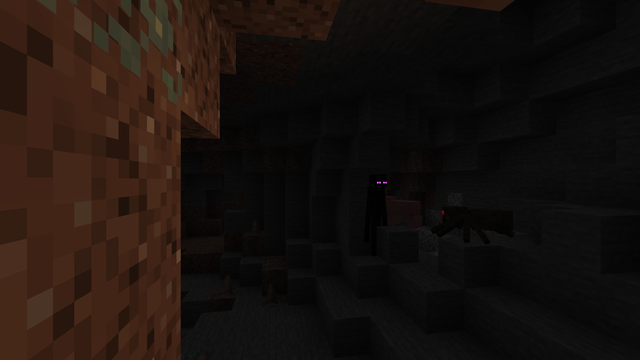araignees: (432, 202, 512, 242)
cochons: (391, 199, 421, 228)
endermens: (368, 171, 387, 257)
